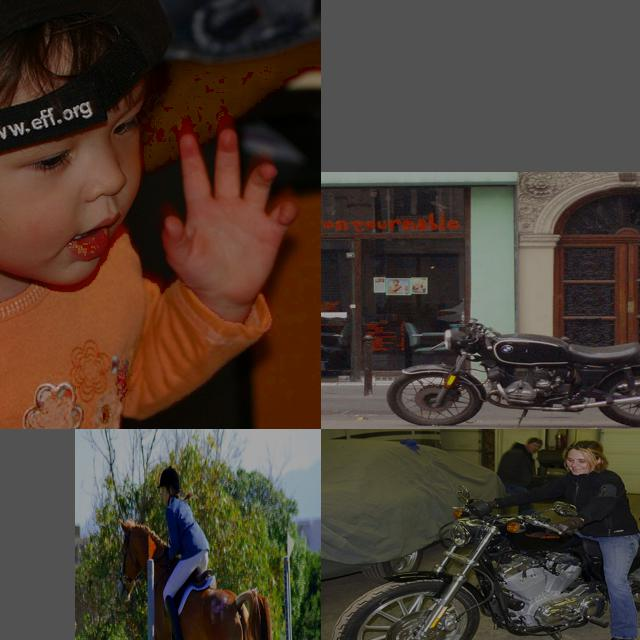chair: (517, 517, 573, 545)
dog: (362, 304, 488, 377)
person: (327, 178, 623, 429)
sofa: (422, 516, 498, 539)
